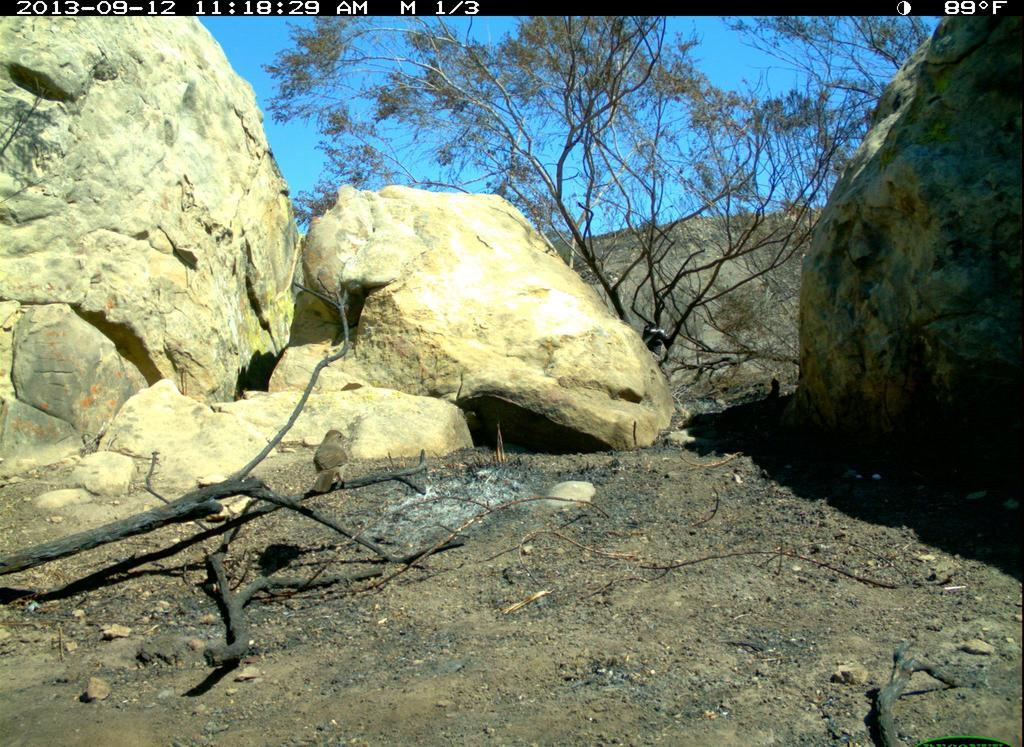bird: (309, 423, 361, 502)
